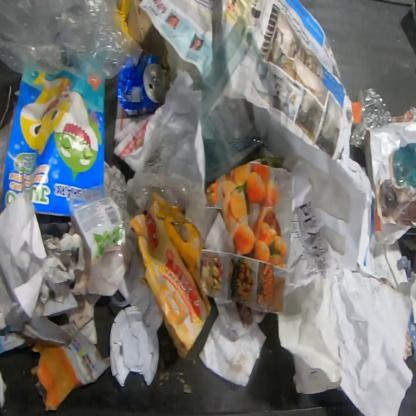cardboard: (130, 192, 214, 361), (26, 323, 110, 412), (126, 0, 170, 71)
metal: (117, 52, 173, 118)
rigid_plastic: (109, 306, 160, 388)
soft_plastic: (0, 0, 144, 83), (66, 182, 133, 283), (125, 168, 210, 240), (349, 86, 392, 156)
